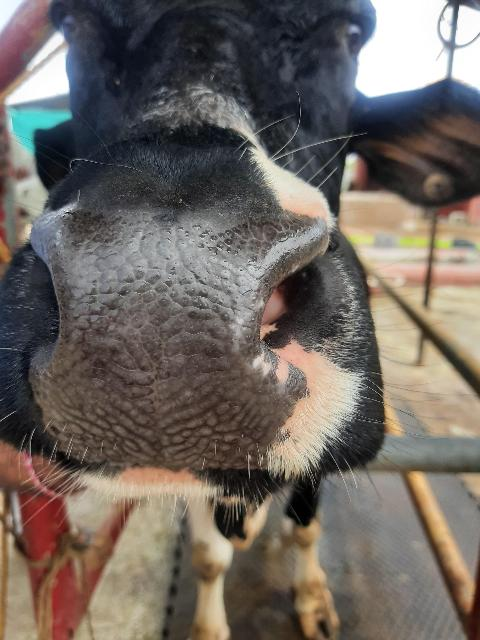Muzzle: (42, 216, 282, 479)
